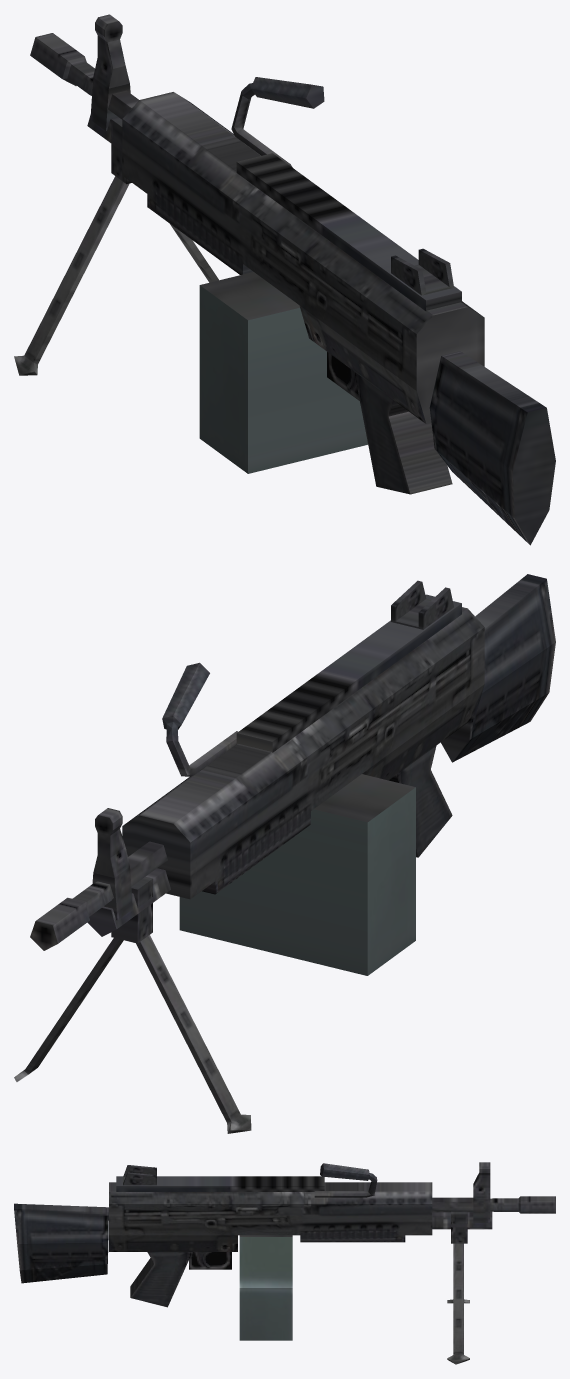
The picture shows the model from 3 angles, top to bottom: view 1: azimuth 30°, elevation 25°; view 2: azimuth 150°, elevation 25°; view 3: azimuth 270°, elevation 25°; orthographic projection. The views are drawn at different scales.
Visible parts, largest first — view 1: Cube.001; view 2: Cube.001; view 3: Cube.001.
Boxes of the visible parts, x1,y1,x2,y2 form: Cube.001: (14, 14, 555, 545); Cube.001: (14, 574, 555, 1133); Cube.001: (14, 1162, 555, 1364).
Size of the model in its own units: 6.82 by 9.48 by 25.12.
Materials: 1 (1 with a texture image).
